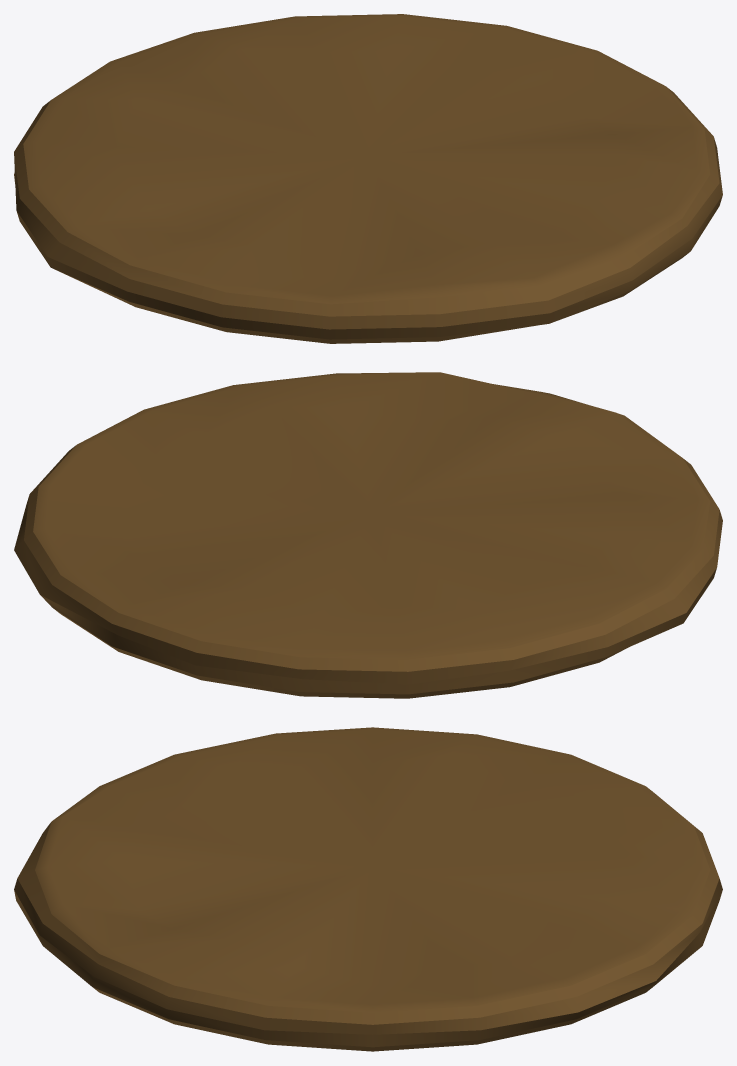
Rendered from meatball.fbx.
3 renders of one model, top to bottom at view 1: azimuth 30°, elevation 25°; view 2: azimuth 150°, elevation 25°; view 3: azimuth 270°, elevation 25°, orthographic. The views are drawn at different scales.
Visible parts, largest first — view 1: meatball; view 2: meatball; view 3: meatball.
Boxes of the visible parts, x1,y1,x2,y2 form: meatball: [14, 14, 722, 343]; meatball: [14, 372, 722, 698]; meatball: [14, 727, 722, 1051].
Size of the model in its own units: 31.2 by 2.91 by 31.28.
